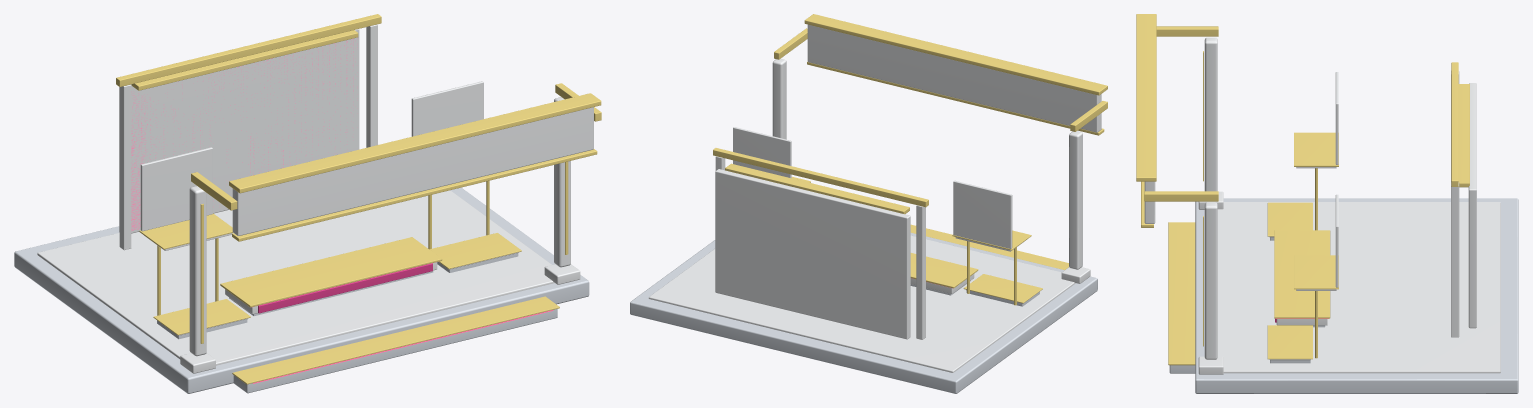
The model's file is lumina_design_v2.glb.
The picture shows the model from 3 angles, left to right: view 1: azimuth 30°, elevation 25°; view 2: azimuth 150°, elevation 25°; view 3: azimuth 270°, elevation 25°; orthographic projection. The views are drawn at different scales.
Visible parts, largest first — view 1: lumina_design_v2; view 2: lumina_design_v2; view 3: lumina_design_v2.
Part boxes in pixels (x1,y1,x2,y2): lumina_design_v2: (14,14,601,393); lumina_design_v2: (630,14,1107,393); lumina_design_v2: (1136,14,1518,393).
Bounding box in the file's own units: 7.24 × 3.86 × 6.43.
